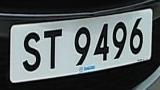4: (93, 20, 112, 68)
6: (128, 15, 146, 60)
9: (70, 23, 93, 72), (111, 18, 129, 64)
S: (21, 30, 43, 75)
T: (41, 25, 65, 74)
